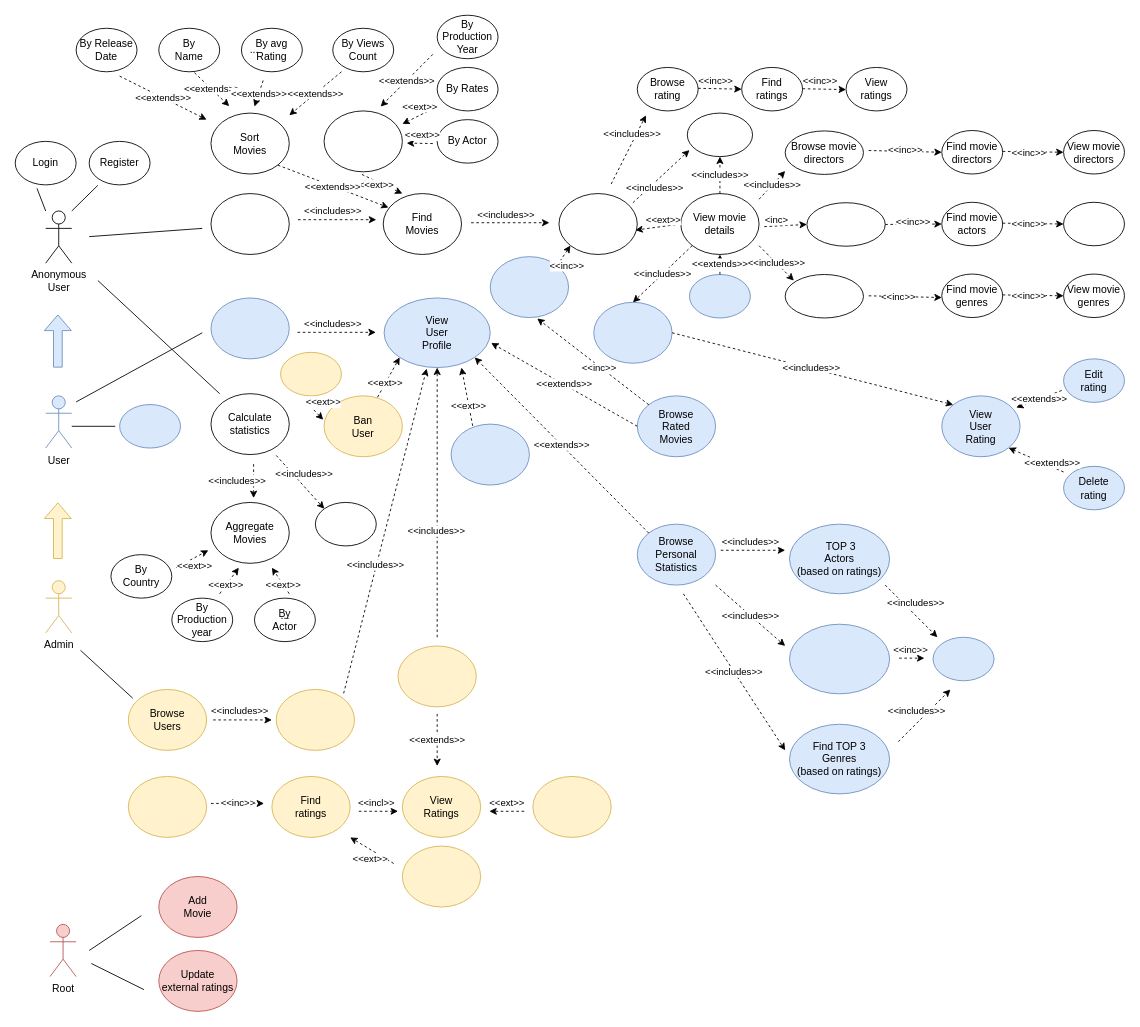
Some shapes in this 1140 by 1027 pixel diagram are drawn without their labels. The shapes that lost their labels are listed below. From the top down, each one's box as (x1, y1, x2, y2) in pixels, then its label:
(323, 110, 402, 172): Filter Movies
(686, 112, 753, 157): View aggregated rating
(210, 193, 289, 254): Browse Movies
(558, 193, 637, 254): View Movie Summery
(806, 202, 885, 246): Browse movie actors
(1063, 201, 1124, 246): View movie actors
(489, 256, 569, 318): Find Rated Movies
(689, 274, 750, 318): Add rating
(784, 274, 863, 318): Browse movie genres
(210, 297, 289, 359): Show Personal Profile
(593, 301, 672, 363): Find own rating
(280, 351, 341, 396): Delete all ratings
(119, 404, 181, 448): Logout
(450, 423, 529, 485): Edit Personal Information
(315, 502, 376, 546): Sort Aggregates
(397, 645, 476, 707): Find User Profile
(789, 623, 890, 694): Find TOP 3 Directors (based on ratings)
(932, 636, 994, 681): Show results
(275, 689, 355, 750): Find Users
(127, 776, 207, 837): Browse common user ratings
(532, 776, 611, 837): Delete Ratings
(402, 845, 481, 907): Filter Ratings
